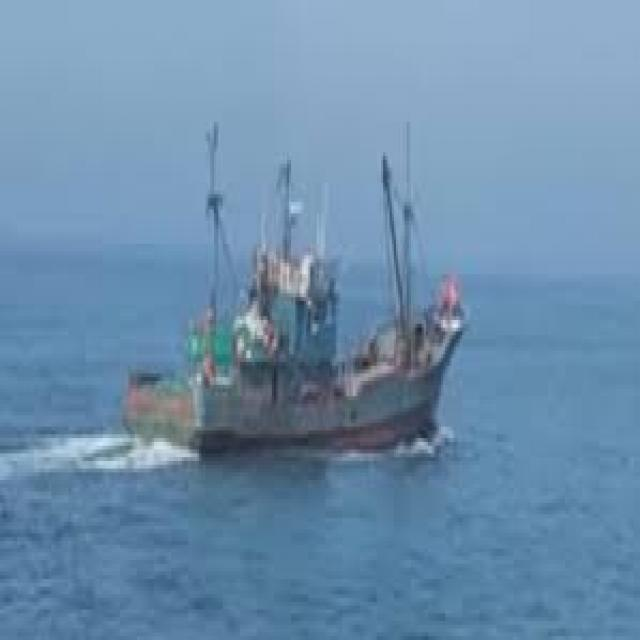Ship: (110, 92, 478, 462)
